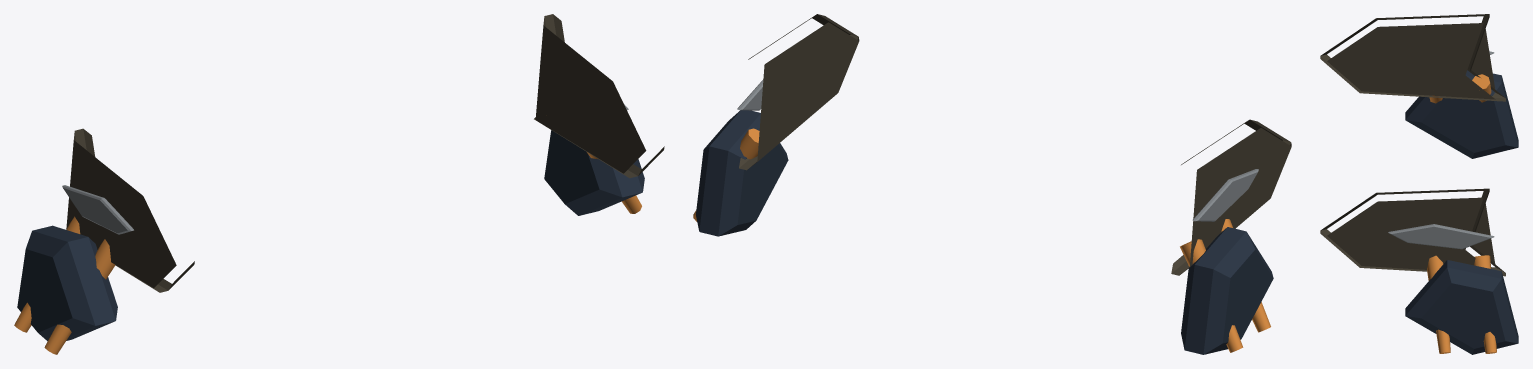
Rendered from turret_damage_heavy.glb.
3 renders of one model, left to right at view 1: azimuth 30°, elevation 25°; view 2: azimuth 150°, elevation 25°; view 3: azimuth 270°, elevation 25°, orthographic. The views are drawn at different scales.
Visible parts, largest first — view 1: turret_damage_heavy; view 2: turret_damage_heavy; view 3: turret_damage_heavy.
Part boxes in pixels (x1,y1,x2,y2): turret_damage_heavy: (14,14,664,354); turret_damage_heavy: (693,14,1291,354); turret_damage_heavy: (1320,14,1518,354).
Bounding box in the file's own units: 1.25 × 0.395 × 0.472.
